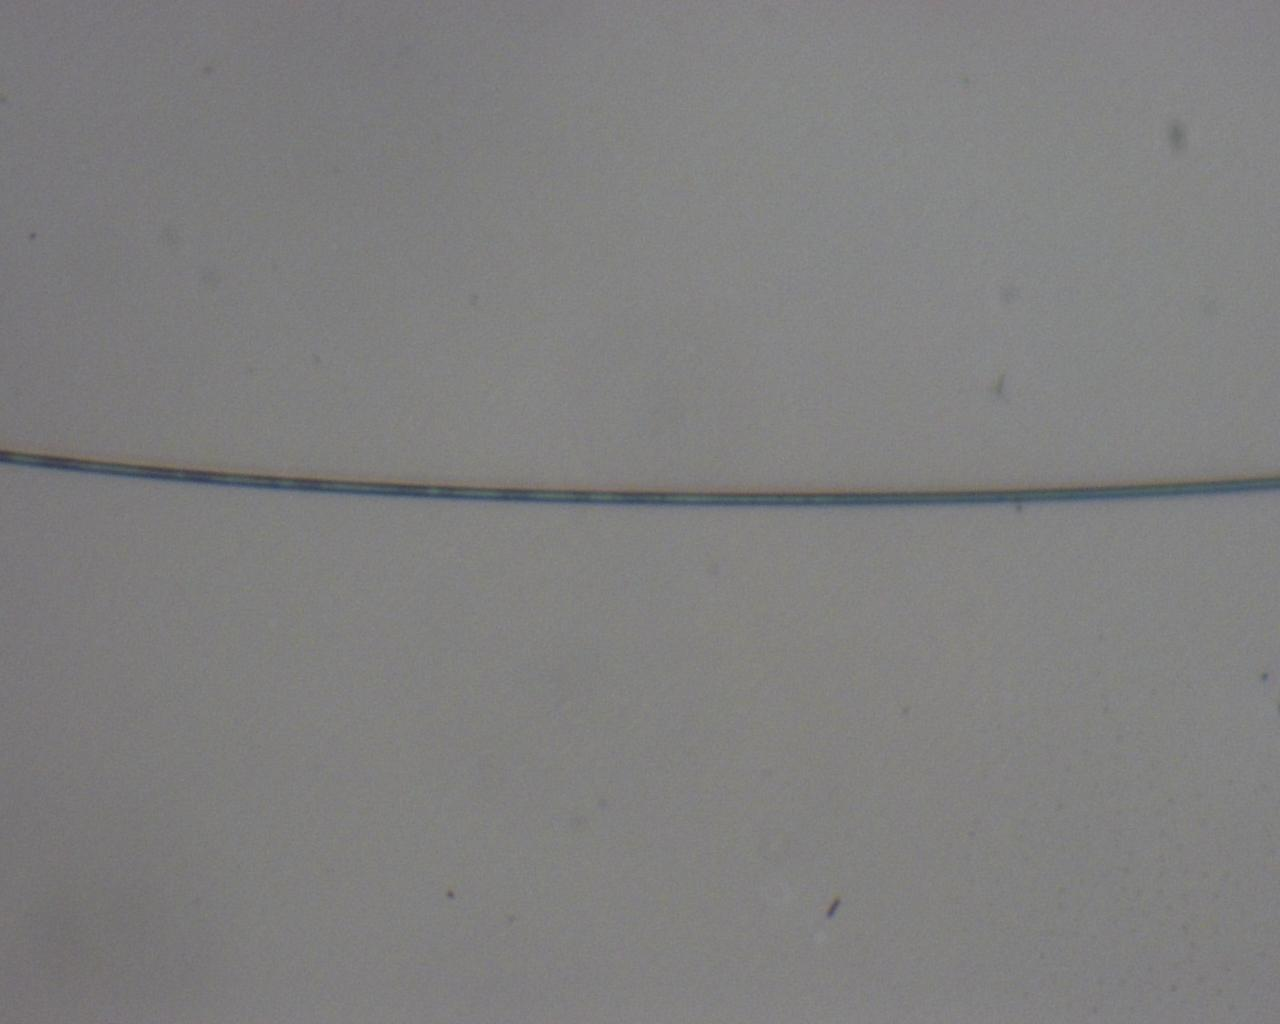fiber: (0, 446, 1279, 507)
